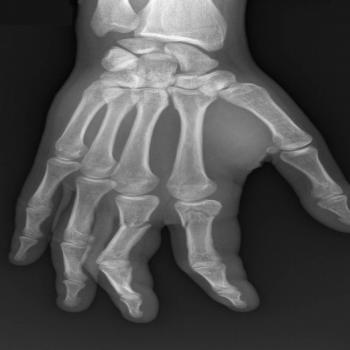Fracture: (173, 202, 232, 228), (109, 214, 162, 236)
